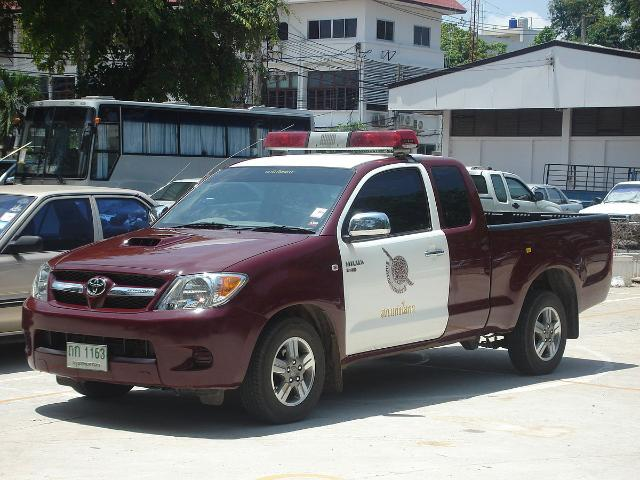pickup-truck: (26, 151, 616, 425)
